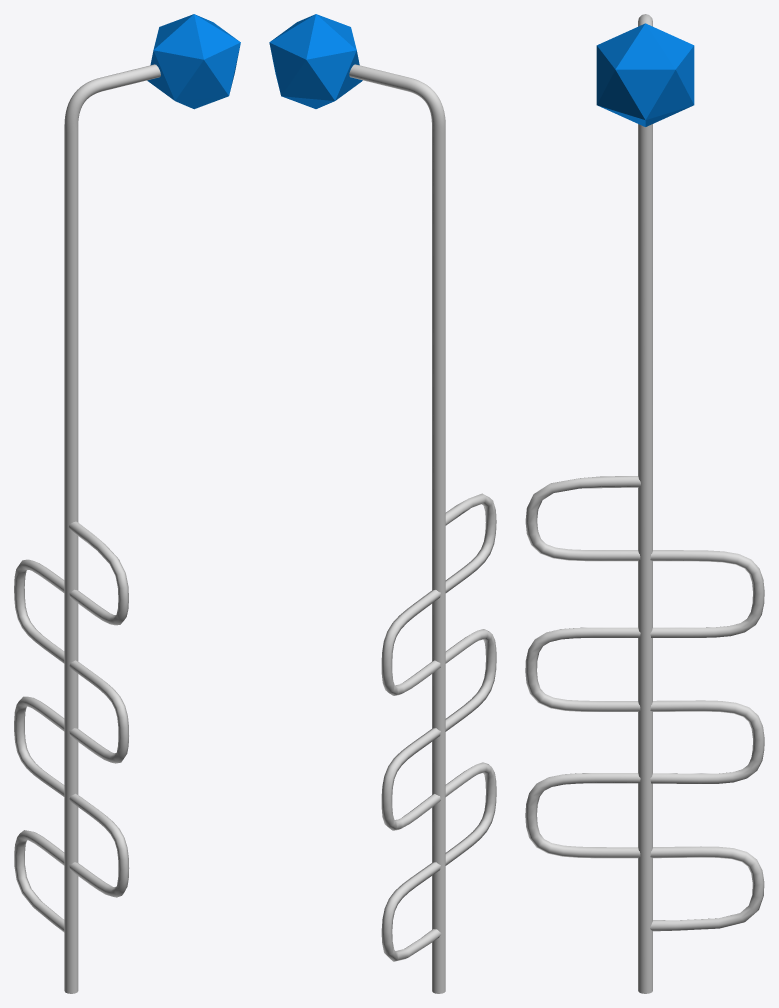
File: Climbing pole.glb
3 renders of one model, left to right at view 1: azimuth 30°, elevation 25°; view 2: azimuth 150°, elevation 25°; view 3: azimuth 270°, elevation 25°, orthographic. The views are drawn at different scales.
Parts seen in each view (by area): view 1: NurbsPath.008, NurbsPath.007, Joint.058; view 2: NurbsPath.008, NurbsPath.007, Joint.058; view 3: NurbsPath.007, NurbsPath.008, Joint.058.
Part boxes in pixels (x1,y1,x2,y2): NurbsPath.008: (64,64,160,993); NurbsPath.007: (14,521,129,932); Joint.058: (147,14,240,109); NurbsPath.008: (349,64,445,993); NurbsPath.007: (381,493,496,961); Joint.058: (269,14,362,108); NurbsPath.007: (525,476,764,931); NurbsPath.008: (638,14,652,993); Joint.058: (596,23,694,126).
Bounding box in the file's own units: 0.5673 × 3.03 × 0.6362.
